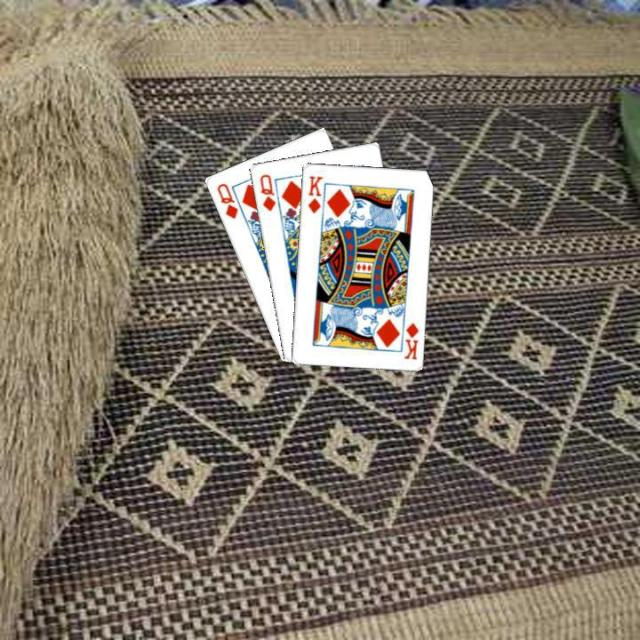KD: (304, 172, 324, 215), (400, 318, 420, 361)
QD: (213, 178, 239, 220), (255, 170, 277, 213)
